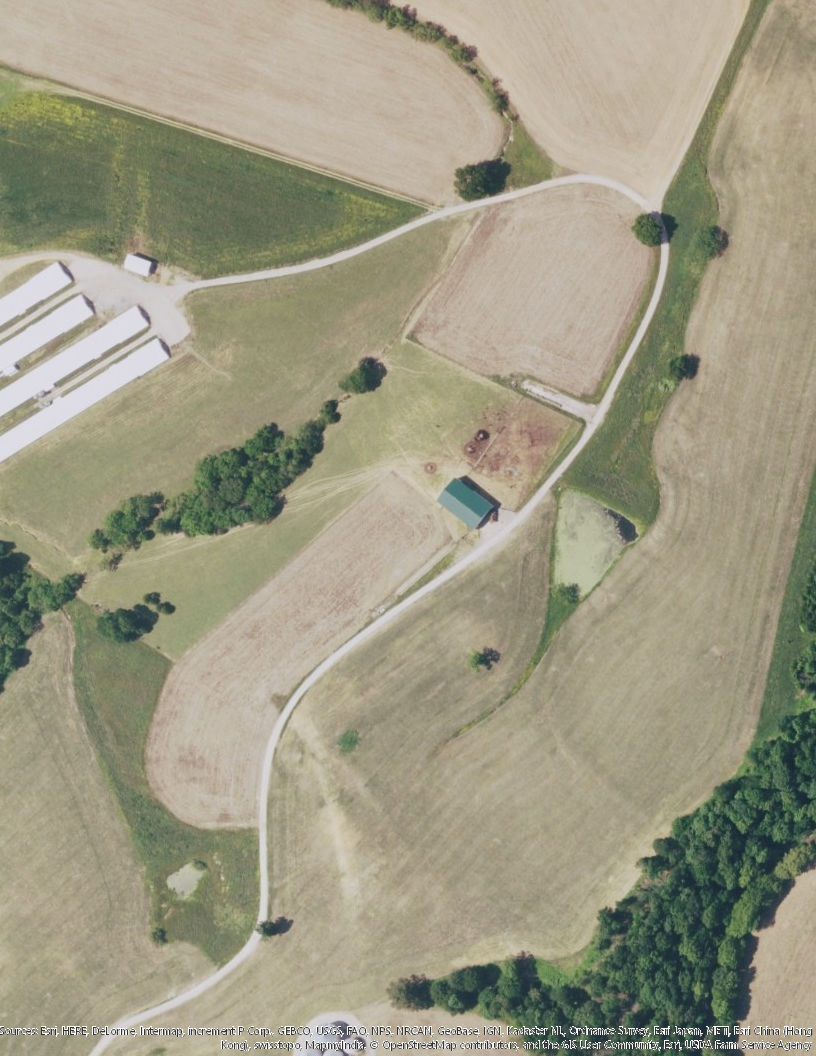cafo: (1, 335, 181, 468), (1, 303, 157, 420), (1, 297, 100, 368), (1, 259, 79, 334)
